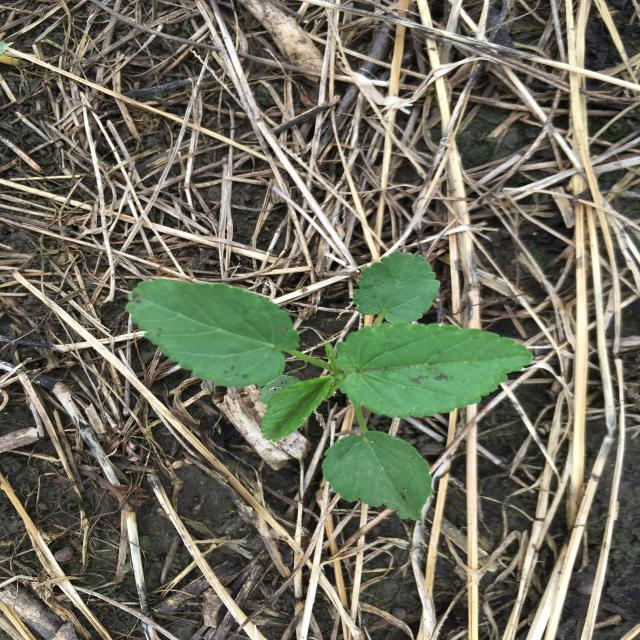PricklySida: (126, 251, 534, 523)
